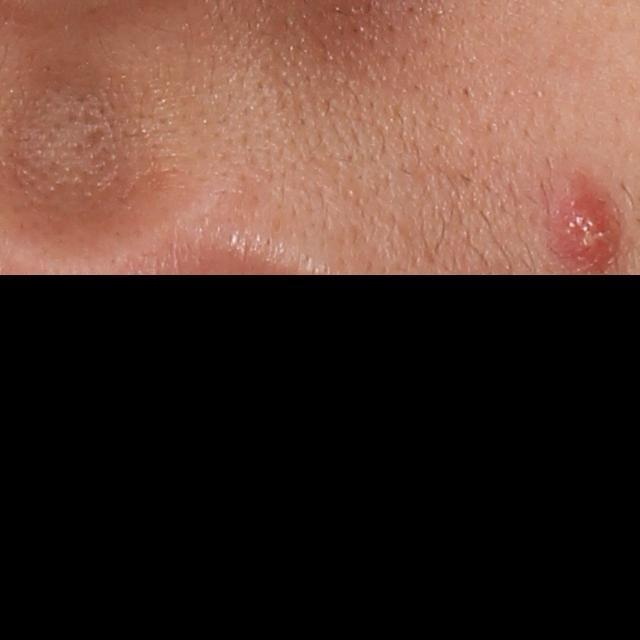papule: (566, 189, 610, 282)
